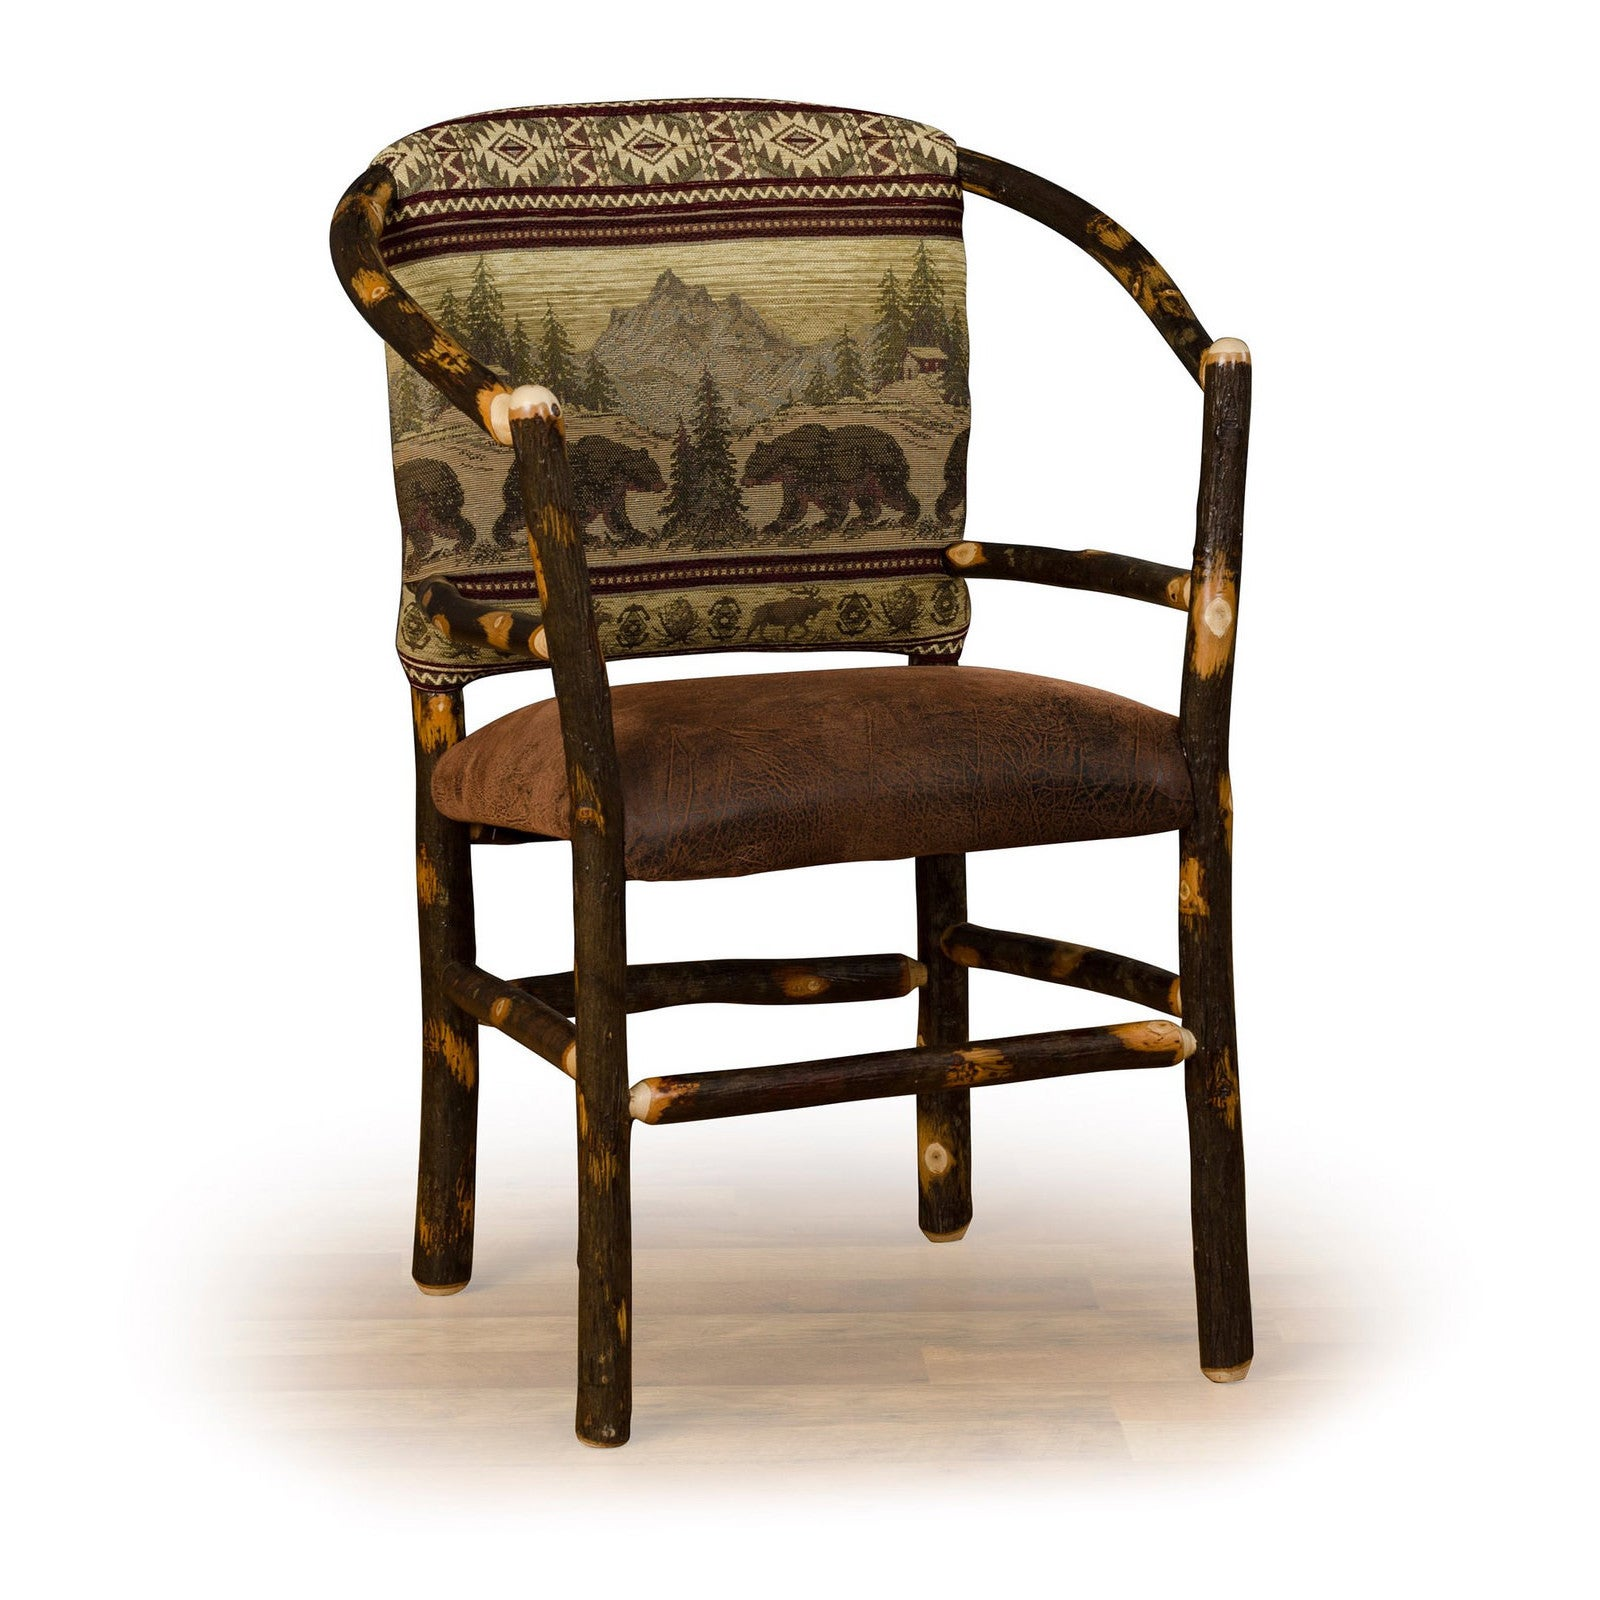chair: (229, 48, 1337, 1503)
